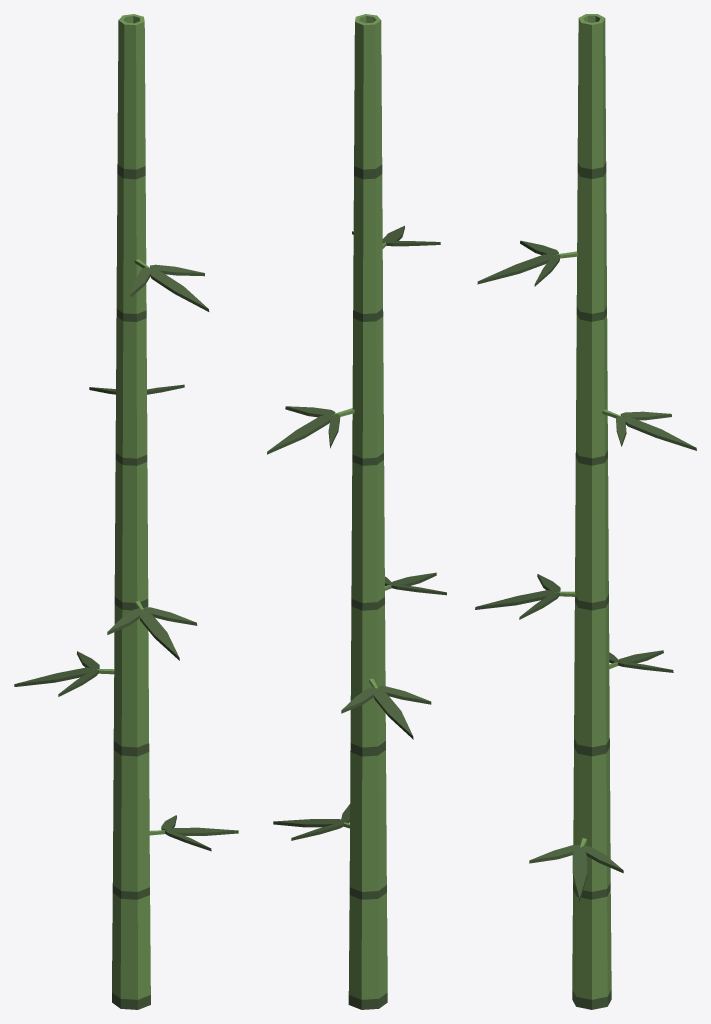
File: bamboo_4.gltf
3 renders of one model, left to right at view 1: azimuth 30°, elevation 25°; view 2: azimuth 150°, elevation 25°; view 3: azimuth 270°, elevation 25°, orthographic.
Parts seen in each view (by area): view 1: bamboo_4; view 2: bamboo_4; view 3: bamboo_4.
Part boxes in pixels (x1,y1,x2,y2): bamboo_4: (14,14,238,1009); bamboo_4: (267,14,446,1009); bamboo_4: (475,14,696,1009).
Bounding box in the file's own units: 0.5299 × 2.73 × 0.5582.
1 material, 1 textured.
